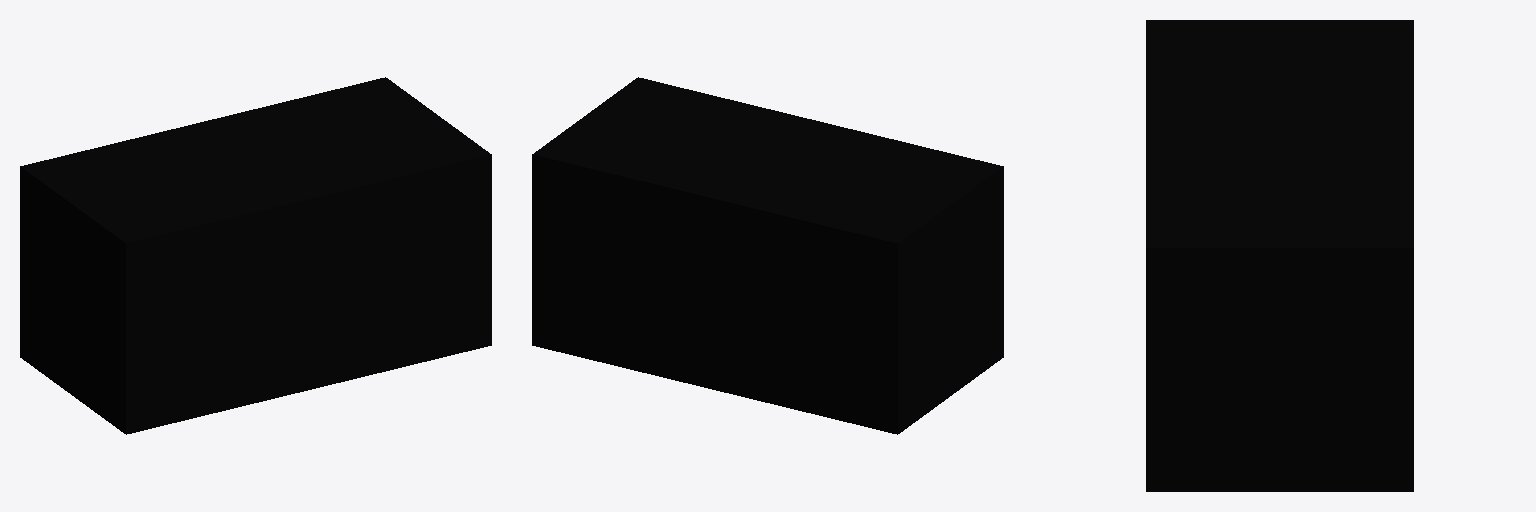
The robot description file, URDF, robot "luxtac_cuboid_horz":
<?xml version="1.0"?>
<!-- cuboid, long axis at 90 deg in the pad plane.
     Generated by scripts/make_luxtac_objs.py. Metres, centred on x,y, cross-section
     centre at z = 0.0452 (the pad centre once staged). Long axis at 90 deg in
     the x-z plane: 0 = along the finger, 90 = across it. Length 40mm,
     mass 1.500000 kg.

     The link is named 'cube' because TacSL resolves the indenter link by name. -->
<robot name="luxtac_cuboid_horz">
    <link name="cube">
        <visual>
            <geometry><mesh filename="../mesh/luxtac_cuboid_horz.obj"/></geometry>
            <material name="black"><color rgba="0.05 0.05 0.05 1"/></material>
        </visual>
        <collision>
            <geometry><mesh filename="../mesh/luxtac_cuboid_horz.obj"/></geometry>
            <sdf resolution="256"/>  <!-- 0.156mm voxels -->
        </collision>
        <inertial>
            <origin rpy="0 0 0" xyz="0 0 0.0452"/>
            <mass value="1.500000"/>
            <inertia ixx="1.000000e-04" ixy="0" ixz="0" iyy="2.500000e-04" iyz="0" izz="2.500000e-04"/>
        </inertial>
    </link>
</robot>

--- Render facts (derived) ---
Views: 3 orthographic renders of the robot side by side, from view 1: azimuth 30°, elevation 25°; view 2: azimuth 150°, elevation 25°; view 3: azimuth 270°, elevation 25°.
Robot: luxtac_cuboid_horz — 1 links, 0 joints (none); root link cube; default pose: all joints at 0.
Links seen in each view (by area): view 1: cube; view 2: cube; view 3: cube.
Boxes of the visible links, left/top/right/bottom form: cube: left=20, top=77, right=491, bottom=434; cube: left=532, top=77, right=1003, bottom=434; cube: left=1146, top=20, right=1413, bottom=491.
Size in the robot's own frame: 0.04 by 0.02 by 0.02 metres.
1 mesh visuals loaded from 1 distinct referenced files (1 OBJ).
